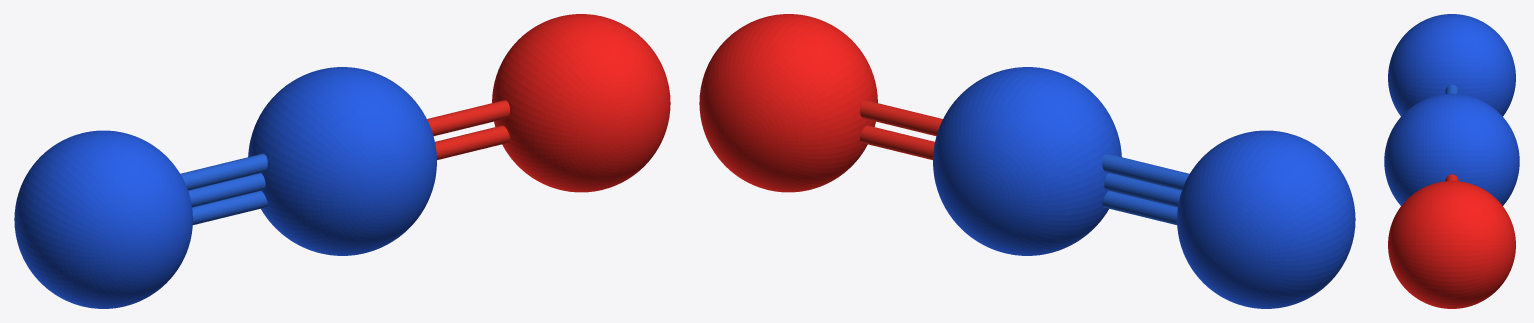
The model's file is nitrous_oxide.glb.
3 views of the same model, side by side, from view 1: azimuth 30°, elevation 25°; view 2: azimuth 150°, elevation 25°; view 3: azimuth 270°, elevation 25° (orthographic). The views are drawn at different scales.
Parts seen in each view (by area): view 1: Nitrogen_N2, Nitrogen_N1, Oxygen_O, N-N_Bond_3, N-O_Bond_2, N-O_Bond_1, N-N_Bond_2, N-N_Bond_1; view 2: Nitrogen_N2, Nitrogen_N1, Oxygen_O, N-N_Bond_3, N-O_Bond_2, N-O_Bond_1, N-N_Bond_2, N-N_Bond_1; view 3: Oxygen_O, Nitrogen_N2, Nitrogen_N1, N-N_Bond_3.
Part boxes in pixels (<box>): Nitrogen_N2: <box>248,67,436,255</box>; Nitrogen_N1: <box>14,130,192,308</box>; Oxygen_O: <box>492,14,670,192</box>; N-N_Bond_3: <box>180,153,267,190</box>; N-O_Bond_2: <box>427,100,509,135</box>; N-O_Bond_1: <box>435,125,509,159</box>; N-N_Bond_2: <box>188,173,265,207</box>; N-N_Bond_1: <box>192,191,267,224</box>; Nitrogen_N2: <box>933,67,1121,255</box>; Nitrogen_N1: <box>1177,130,1355,308</box>; Oxygen_O: <box>699,14,877,192</box>; N-N_Bond_3: <box>1102,153,1189,190</box>; N-O_Bond_2: <box>860,100,942,135</box>; N-O_Bond_1: <box>860,125,934,159</box>; N-N_Bond_2: <box>1104,173,1181,207</box>; N-N_Bond_1: <box>1102,191,1177,224</box>; Oxygen_O: <box>1388,181,1515,308</box>; Nitrogen_N2: <box>1384,93,1519,205</box>; Nitrogen_N1: <box>1388,14,1515,116</box>; N-N_Bond_3: <box>1445,84,1458,93</box>.
Bounding box in the file's own units: 2.78 × 0.7197 × 0.72.
